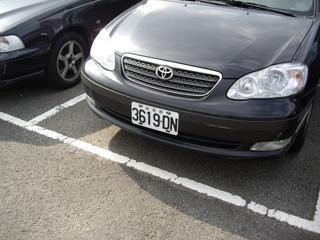plate: (130, 98, 181, 139)
